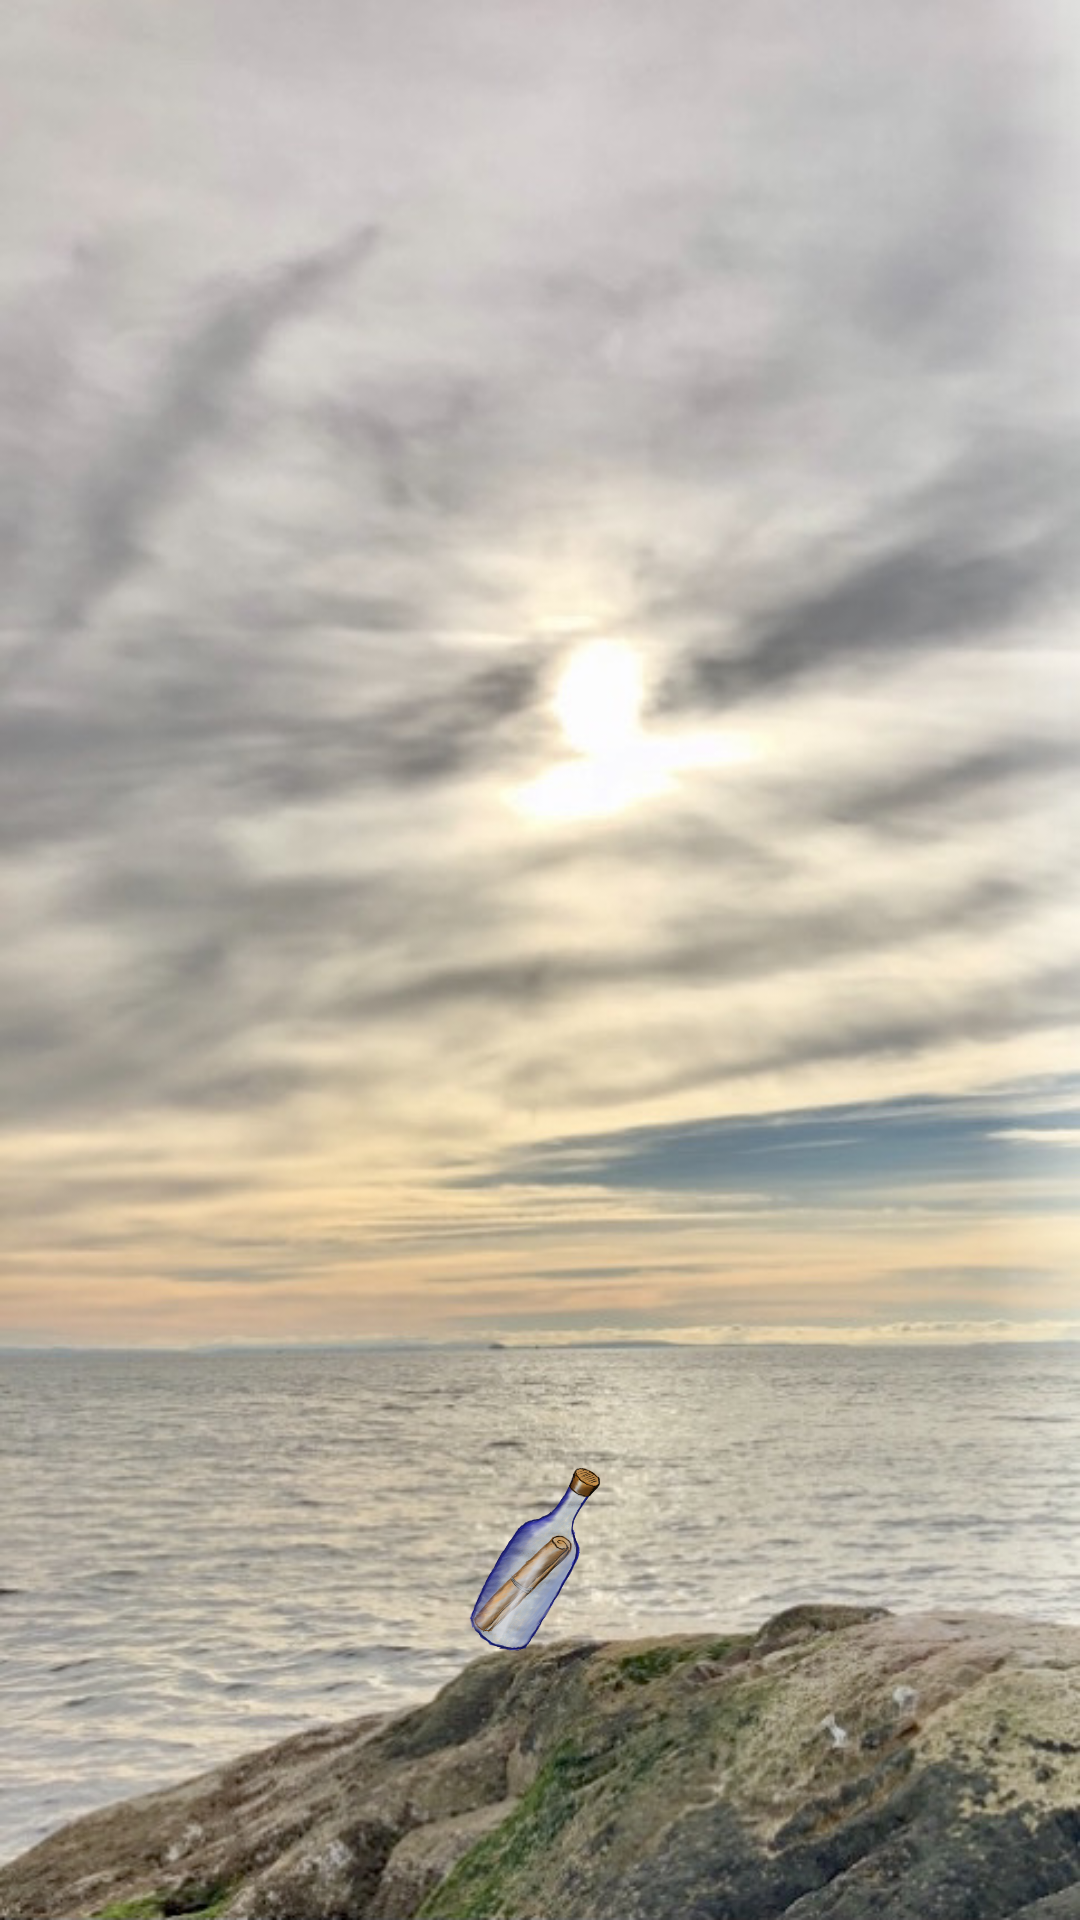

Icon click points for this 1080*1920 phone screenshot, format point (x, y):
drift bottle: point (540, 1560)
